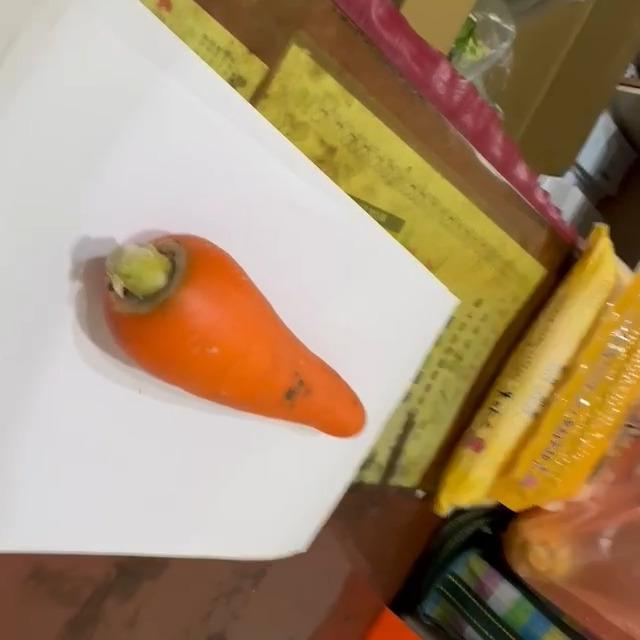carrot: (99, 236, 368, 439)
